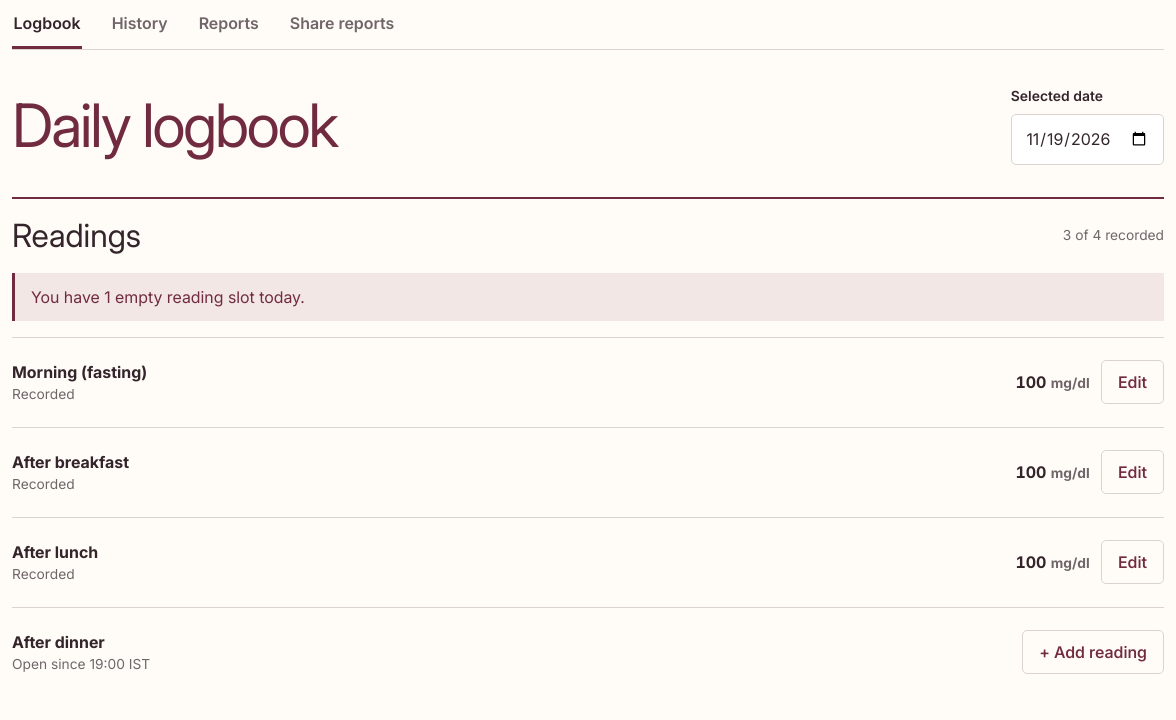
Test: reading form › reminds users after 9 p.m. IST until today's last slot is filled
In the date field labelled "Selected date": (1087, 139) [1011,114,1164,165], type "2026-11-18"
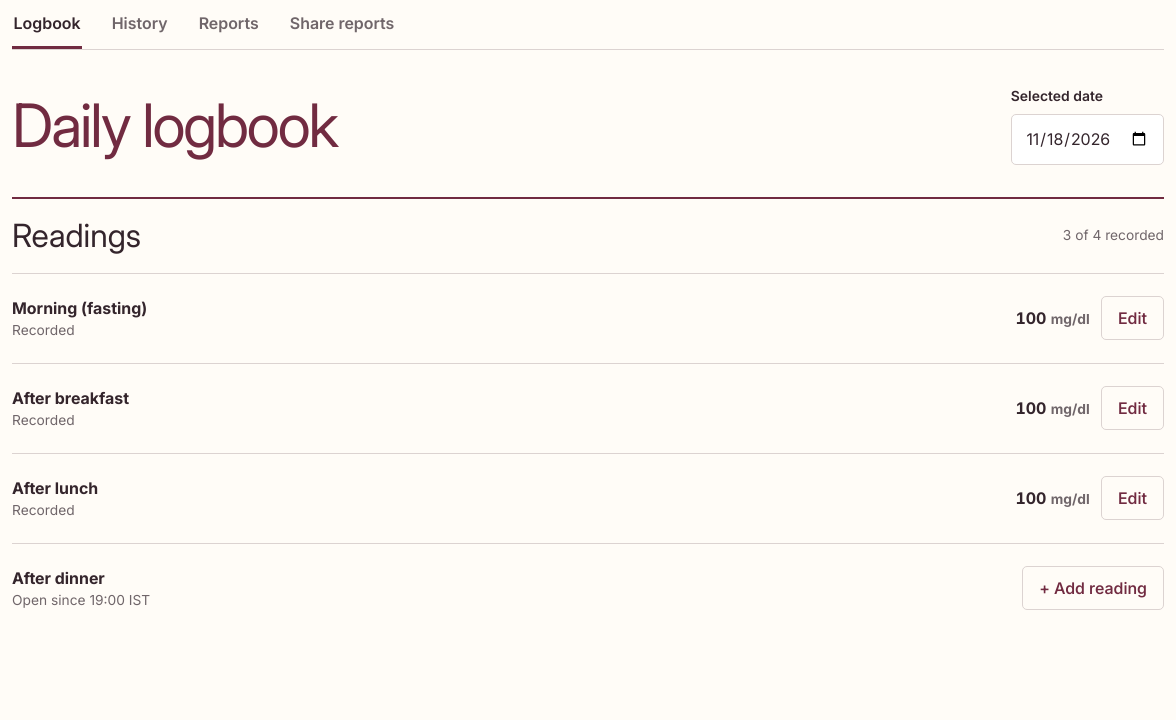
Expected: the text "3 of 4 recorded" is shown, [1063,226,1164,246]
Expected: the text "You have 1 empty reading slot today." is gone
In the date field labelled "Selected date": (1087, 139) [1011,114,1164,165], type "2026-11-19"
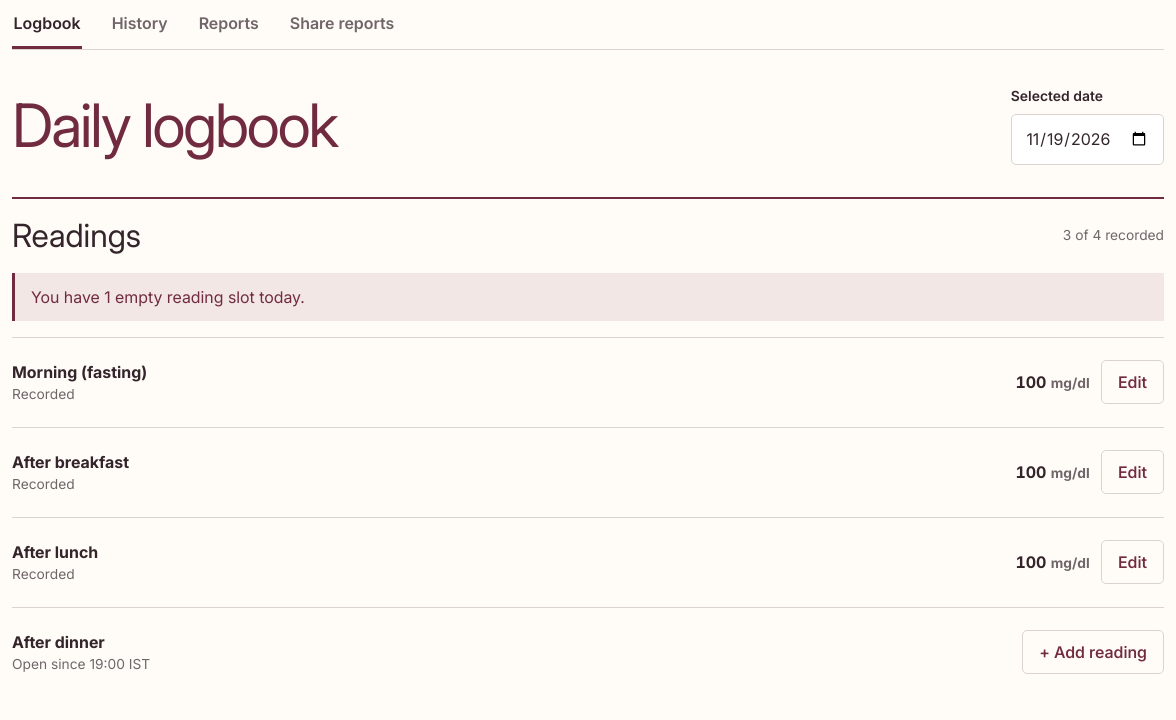
Expected: the text "You have 1 empty reading slot today." is shown, [12,273,1164,321]
Click the button "+ Add reading": (1093, 652) [1022,630,1164,674]
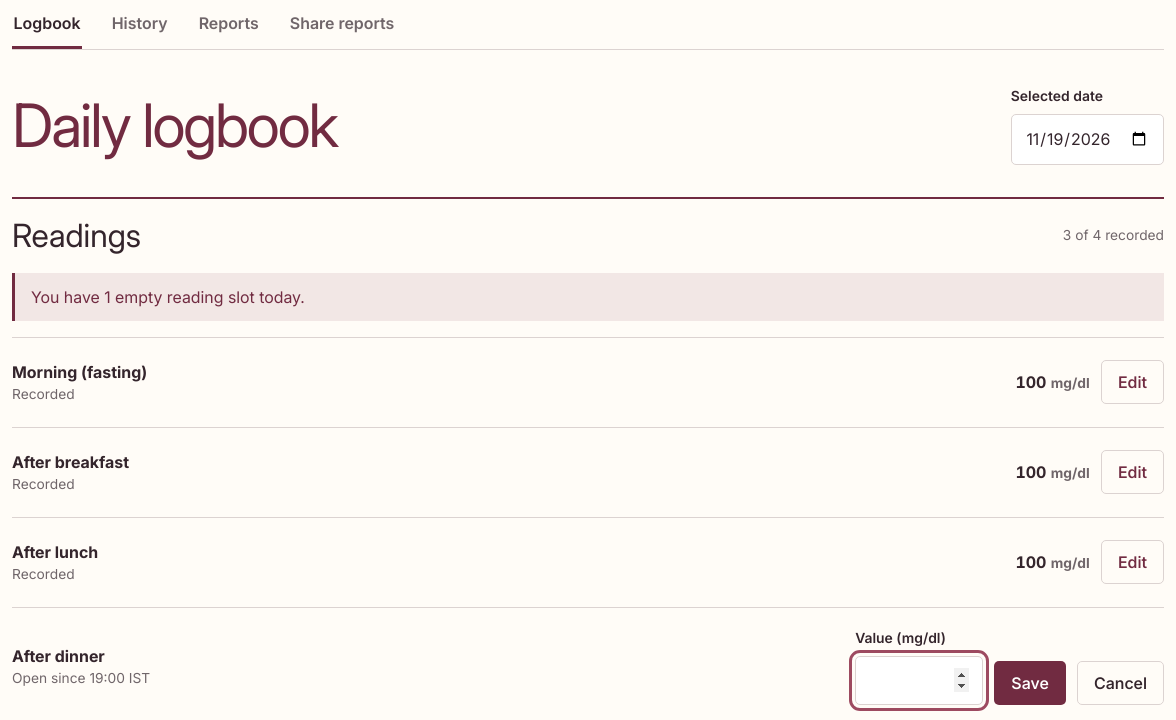
In the number field labelled "Value (mg/dl)": (919, 680) [855,656,983,705], type "110"
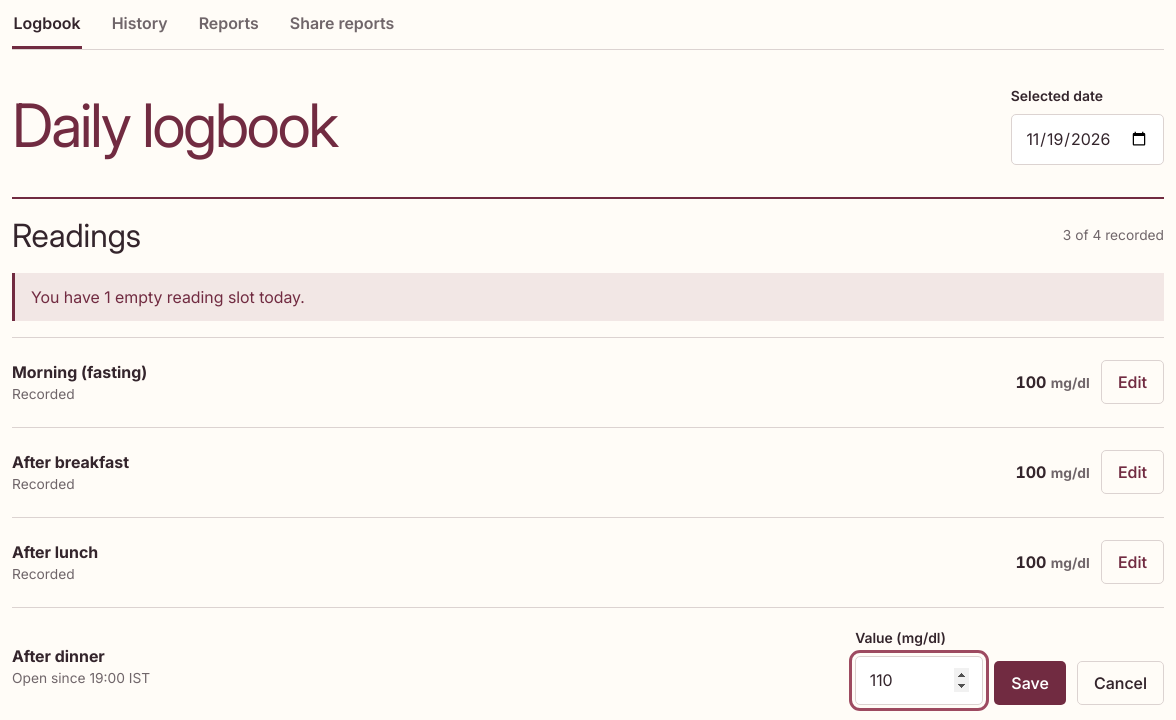
Click the button "Save": (1030, 683) [994,661,1066,705]
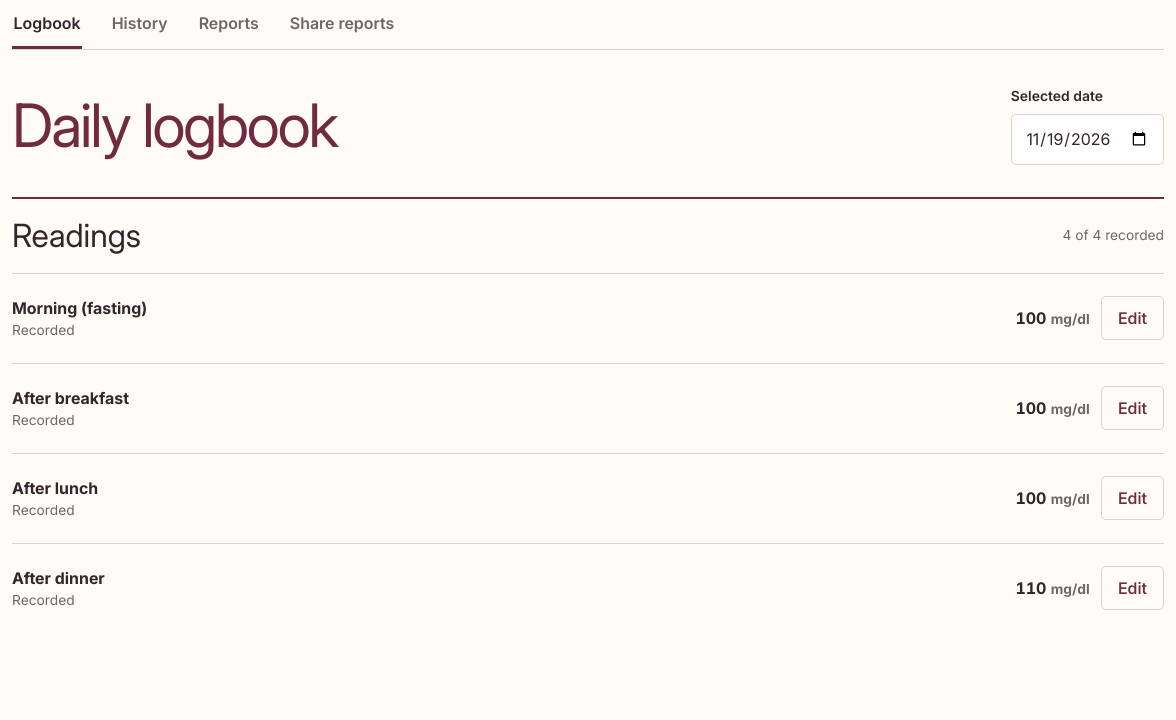
Expected: the text "4 of 4 recorded" is shown, [1062,226,1164,246]
Expected: the text "You have 1 empty reading slot today." is gone
